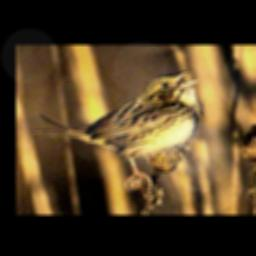Sparrow: (28, 69, 202, 191)
